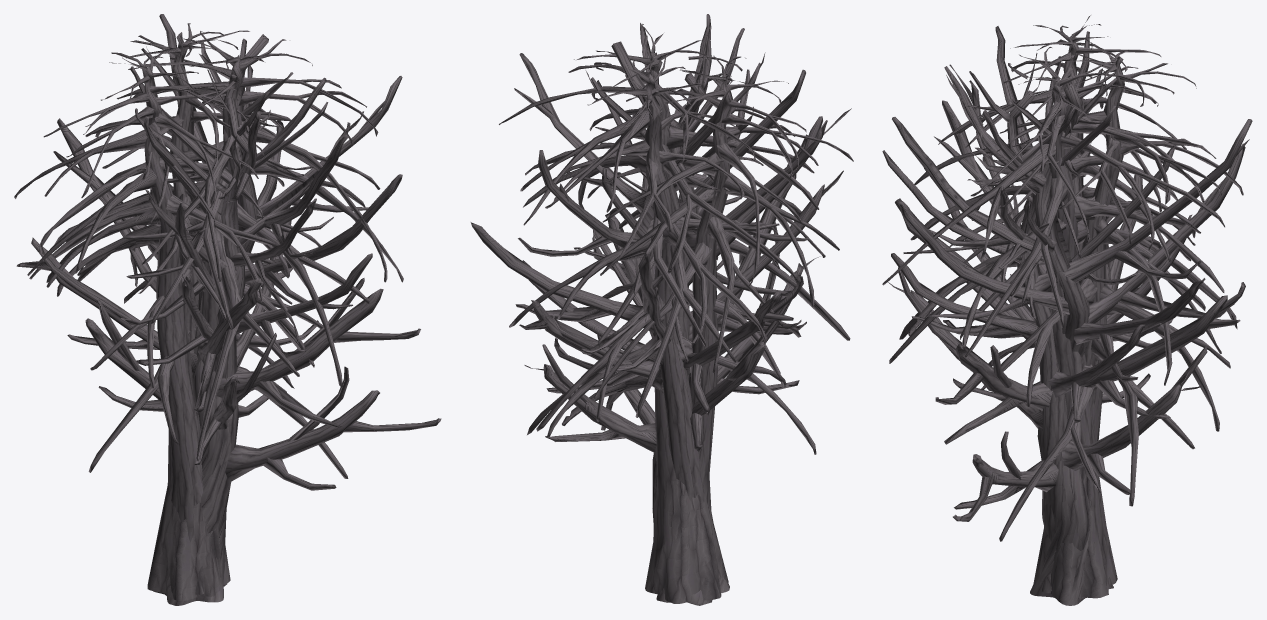
Rendered from tree_dead.glb.
3 views of the same model, side by side, from view 1: azimuth 30°, elevation 25°; view 2: azimuth 150°, elevation 25°; view 3: azimuth 270°, elevation 25° (orthographic).
Visible parts, largest first — view 1: dead_1_bark, dead_4_bark, dead_2_bark, dead_3_bark, dead_5_bark, dead_3_lod1_bark, dead_1_lod1_bark, dead_4_lod1_bark, dead_2_lod1_bark, dead_5_lod1_bark; view 2: dead_4_bark, dead_1_bark, dead_5_bark, dead_3_bark, dead_2_bark, dead_1_lod1_bark, dead_4_lod1_bark, dead_5_lod1_bark, dead_2_lod1_bark, dead_3_lod1_bark; view 3: dead_1_bark, dead_4_bark, dead_2_bark, dead_5_bark, dead_1_lod1_bark, dead_3_bark, dead_4_lod1_bark, dead_2_lod1_bark, dead_5_lod1_bark, dead_3_lod1_bark.
Boxes of the visible parts, bbox=[...] form: dead_1_bark: bbox=[16, 14, 420, 605]; dead_4_bark: bbox=[38, 31, 403, 600]; dead_2_bark: bbox=[85, 65, 441, 533]; dead_3_bark: bbox=[14, 46, 299, 508]; dead_5_bark: bbox=[29, 23, 348, 594]; dead_3_lod1_bark: bbox=[39, 53, 294, 541]; dead_1_lod1_bark: bbox=[36, 33, 415, 604]; dead_4_lod1_bark: bbox=[54, 51, 398, 600]; dead_2_lod1_bark: bbox=[86, 87, 436, 534]; dead_5_lod1_bark: bbox=[55, 34, 342, 594]; dead_4_bark: bbox=[499, 24, 850, 603]; dead_1_bark: bbox=[470, 14, 822, 605]; dead_5_bark: bbox=[509, 53, 816, 502]; dead_3_bark: bbox=[587, 55, 853, 505]; dead_2_bark: bbox=[522, 25, 851, 603]; dead_1_lod1_bark: bbox=[517, 28, 796, 604]; dead_4_lod1_bark: bbox=[540, 58, 844, 603]; dead_5_lod1_bark: bbox=[531, 68, 780, 432]; dead_2_lod1_bark: bbox=[550, 77, 816, 452]; dead_3_lod1_bark: bbox=[609, 67, 850, 513]; dead_1_bark: bbox=[892, 26, 1252, 605]; dead_4_bark: bbox=[882, 47, 1237, 600]; dead_2_bark: bbox=[882, 53, 1209, 598]; dead_5_bark: bbox=[949, 45, 1243, 591]; dead_1_lod1_bark: bbox=[897, 44, 1242, 605]; dead_3_bark: bbox=[938, 15, 1221, 597]; dead_4_lod1_bark: bbox=[898, 77, 1234, 598]; dead_2_lod1_bark: bbox=[896, 82, 1202, 540]; dead_5_lod1_bark: bbox=[976, 55, 1210, 492]; dead_3_lod1_bark: bbox=[975, 26, 1210, 593].
Bounding box in the file's own units: 0.6839 × 1.04 × 0.6438.
Materials: 1 (1 with a texture image).
